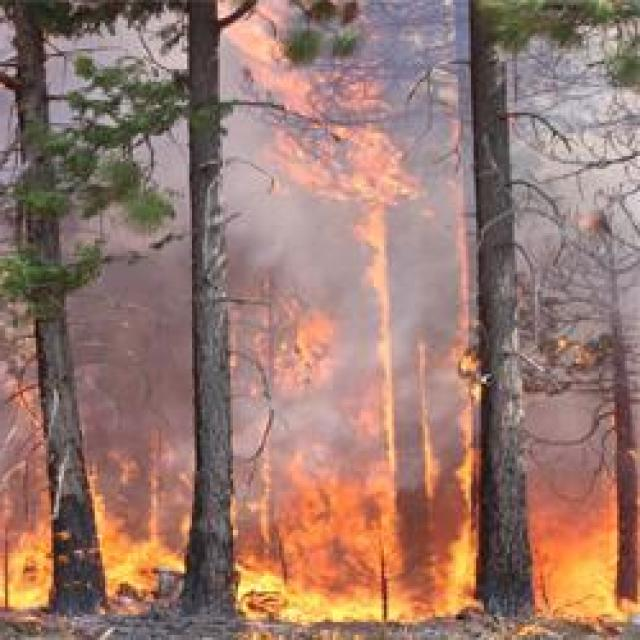fire: (538, 528, 614, 618), (284, 580, 378, 624), (2, 540, 53, 612), (106, 536, 156, 586), (445, 532, 475, 614)
smoke: (376, 203, 458, 375), (225, 199, 355, 301), (233, 390, 355, 468)
